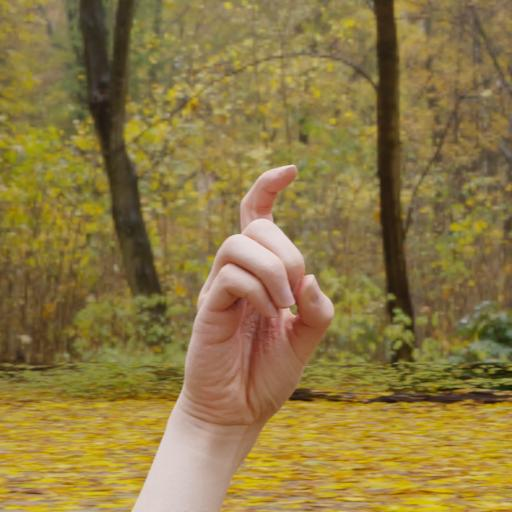X: (156, 148, 364, 451)
